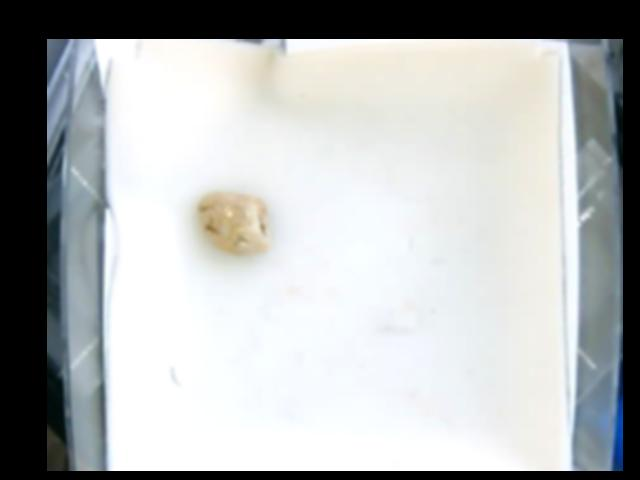Pebble: (198, 191, 267, 256)
